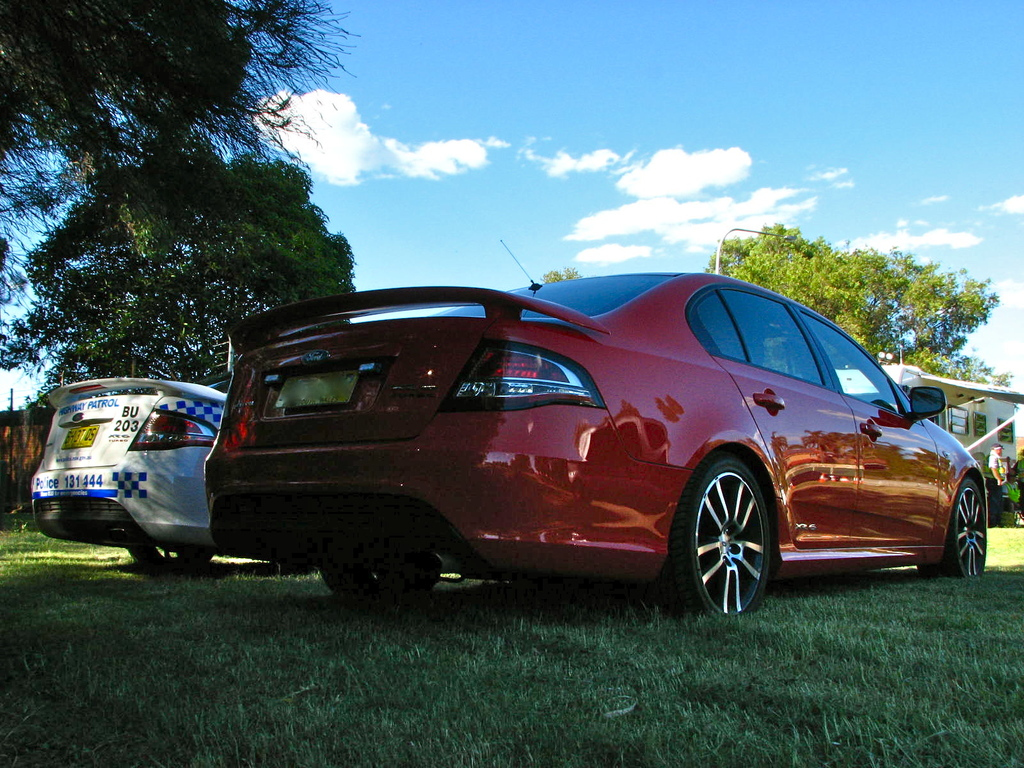Car: (204, 263, 987, 615), (28, 381, 227, 567)
